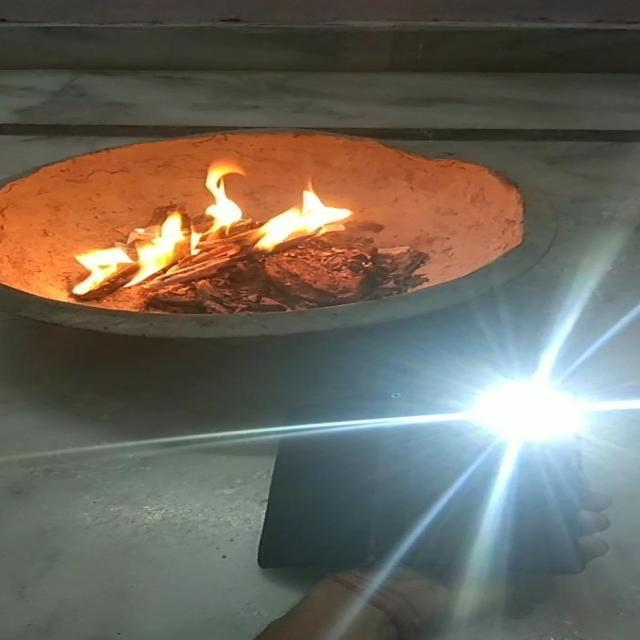smoke: (67, 208, 186, 297), (250, 183, 357, 254), (201, 156, 248, 236)
